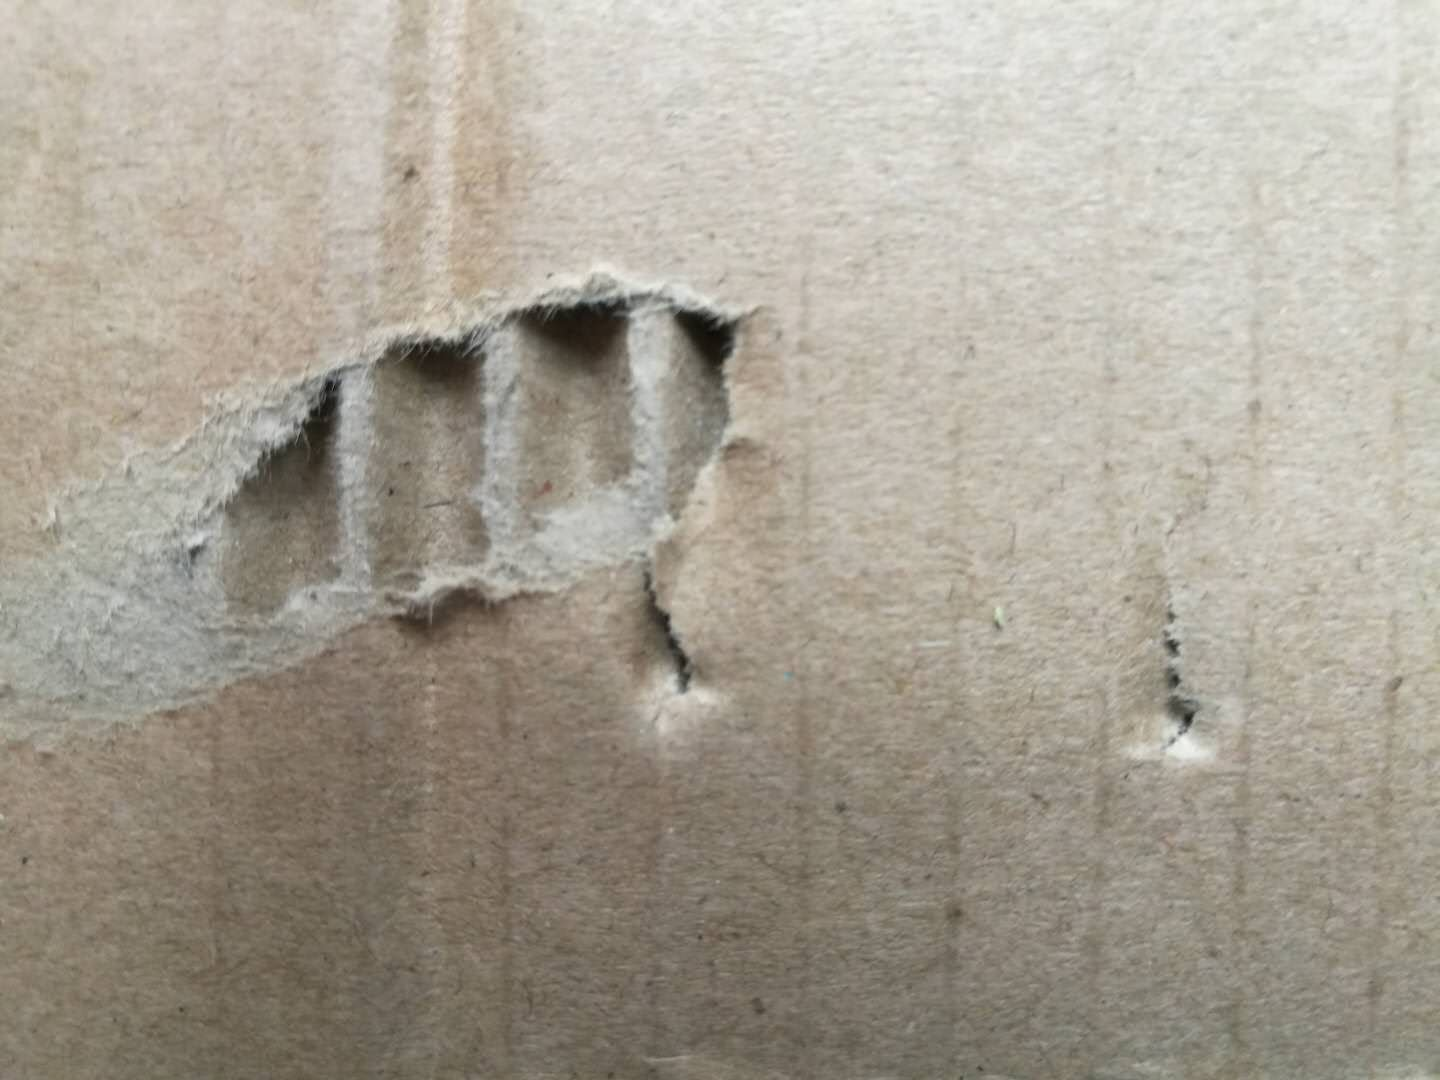defect: (2, 223, 810, 770), (310, 1, 598, 1004), (1081, 484, 1254, 811)
